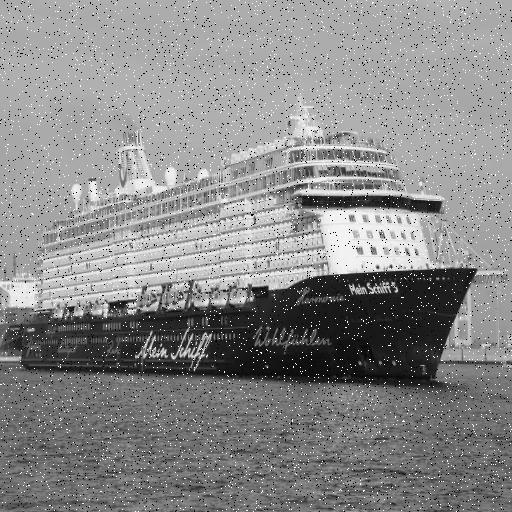cruises: (19, 93, 479, 393)
